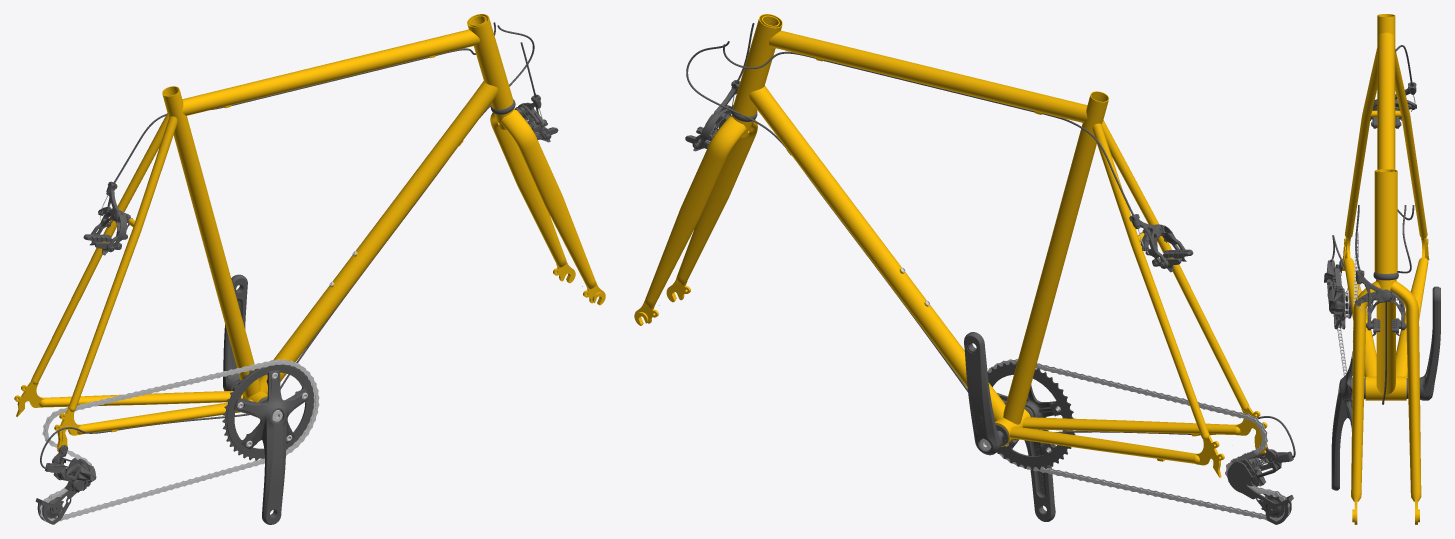
File: Mango_OG_Frame.glb
3 renders of one model, left to right at view 1: azimuth 30°, elevation 25°; view 2: azimuth 150°, elevation 25°; view 3: azimuth 270°, elevation 25°, orthographic. The views are drawn at different scales.
Visible parts, largest first — view 1: no_transformations (×9); view 2: no_transformations (×9); view 3: no_transformations (×9).
Part boxes in pixels (x1,y1,x2,y2): no_transformations (×9): [14, 14, 605, 524]; no_transformations (×9): [634, 14, 1295, 524]; no_transformations (×9): [1324, 14, 1440, 524].
Bounding box in the file's own units: 1106 × 799 × 193.
